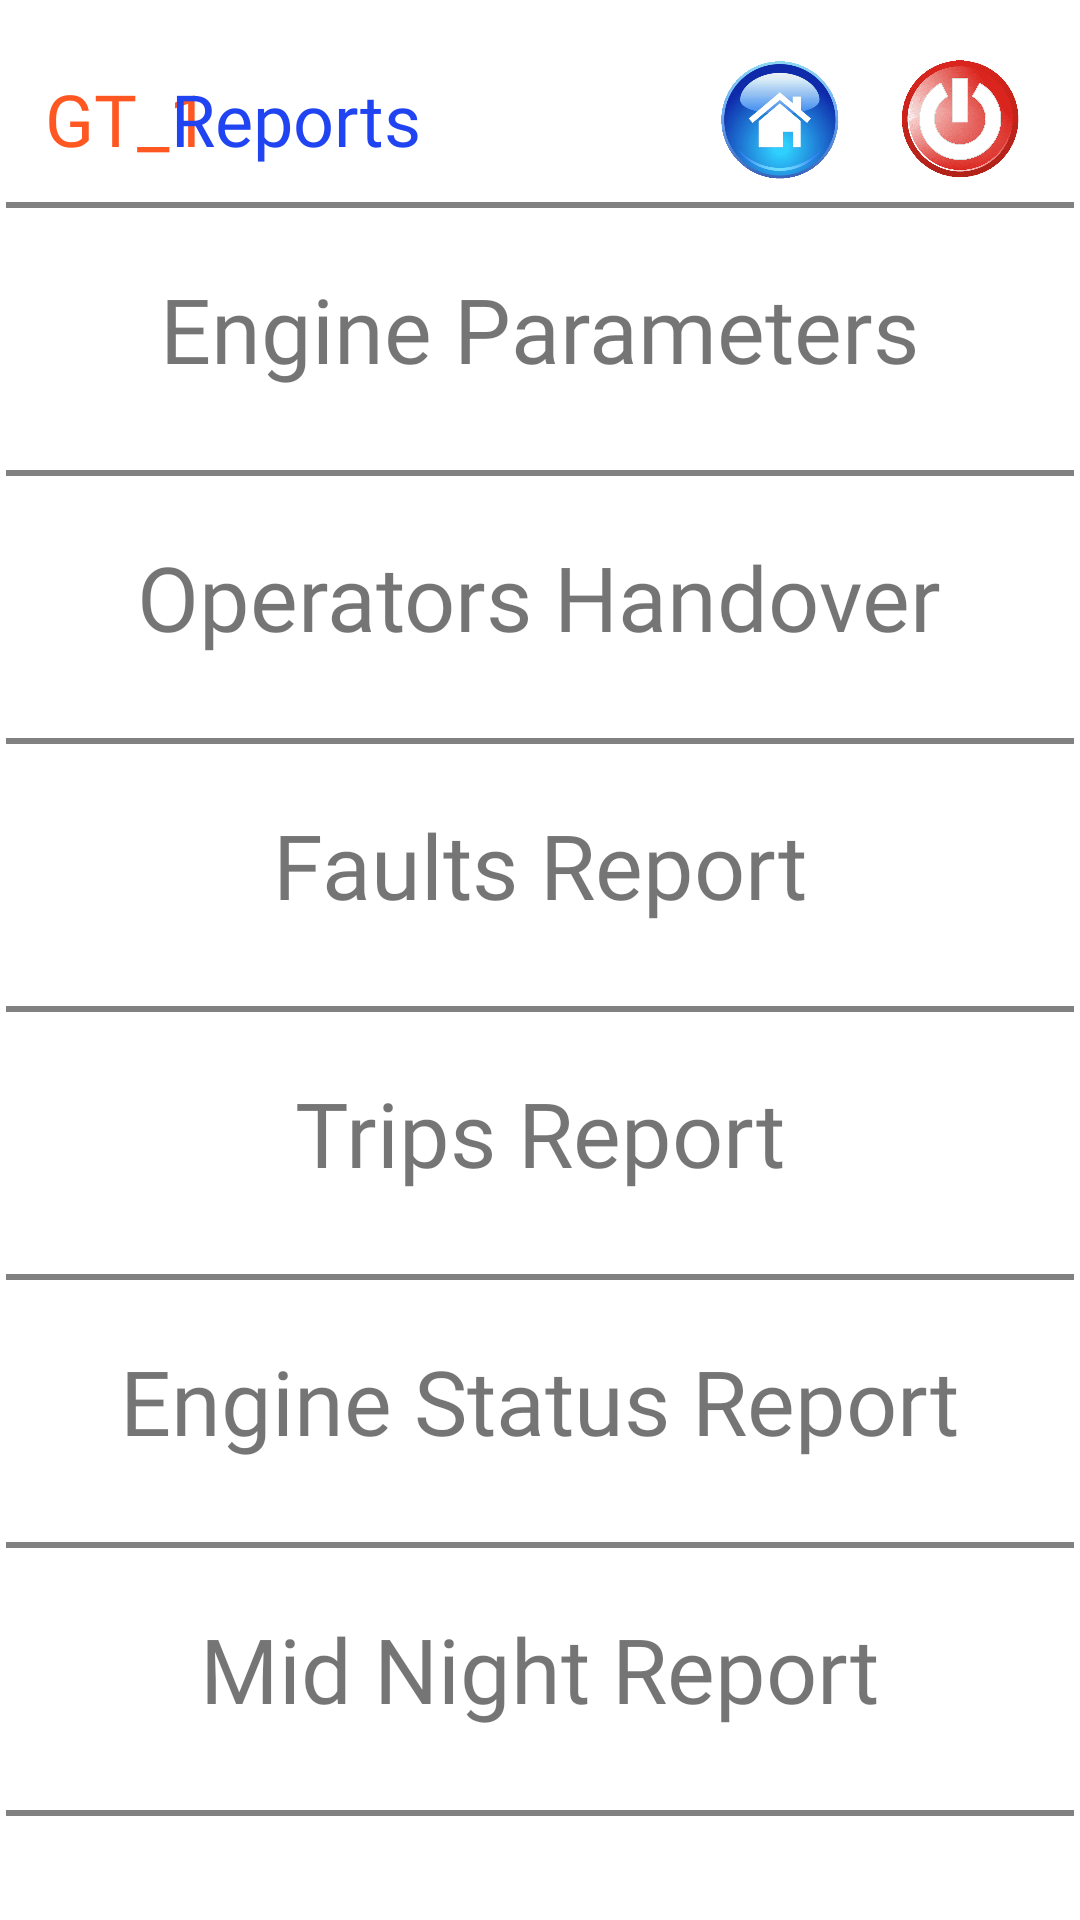

Named icons in this screenshot (1080px x 1920px) and their centers, (x,y):
home: (780,120)
sign out: (960,118)
